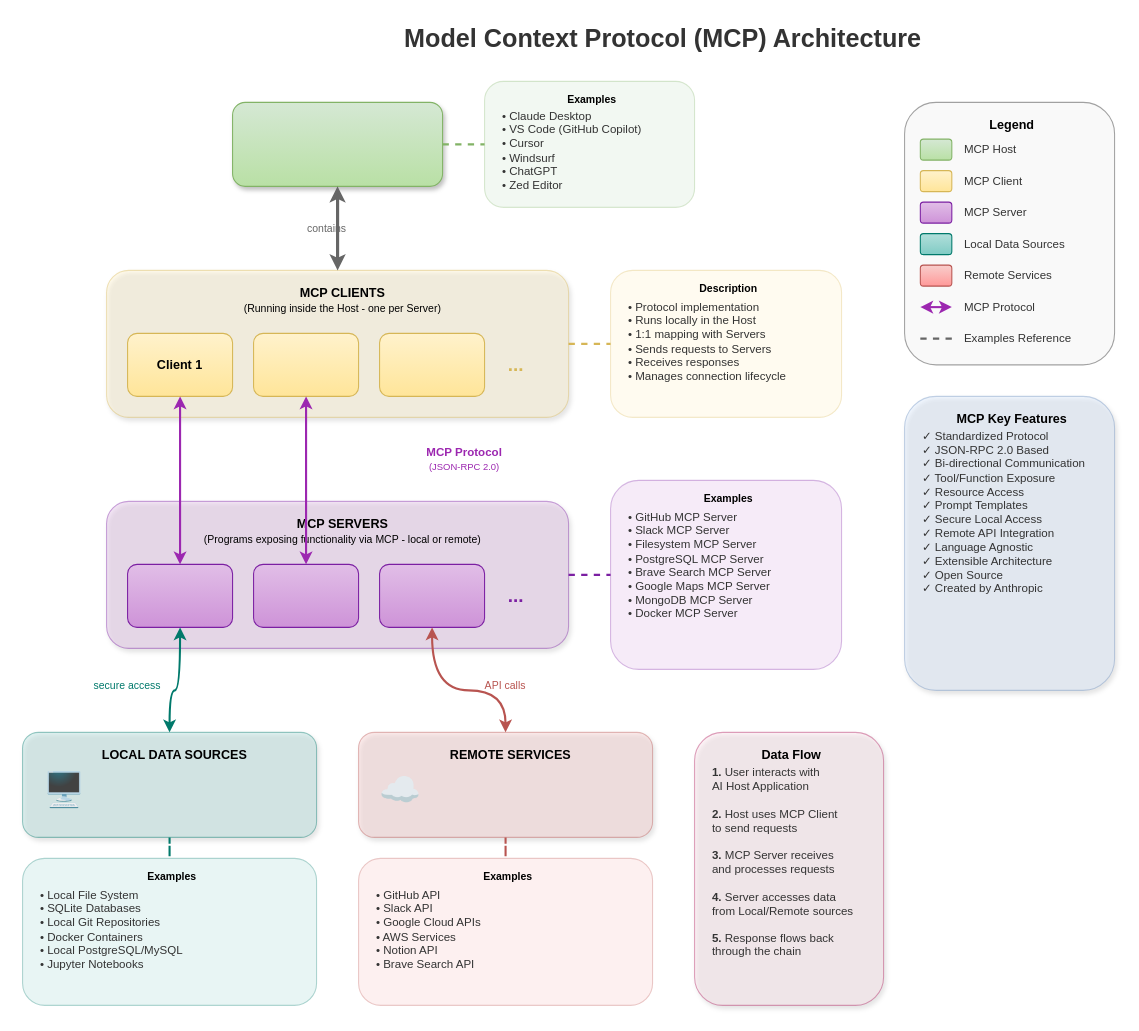
This 1139x1031 diagram has some shape labels left out. Here are the shapes that lost their labels. From the top down, the centre of each, then its label:
At [338,145]: "MCP HOST (AI Application)".
At [306,364]: "Client 2".
At [432,364]: "Client 3".
At [180,595]: "Server 1".
At [306,595]: "Server 2".
At [432,595]: "Server 3".
